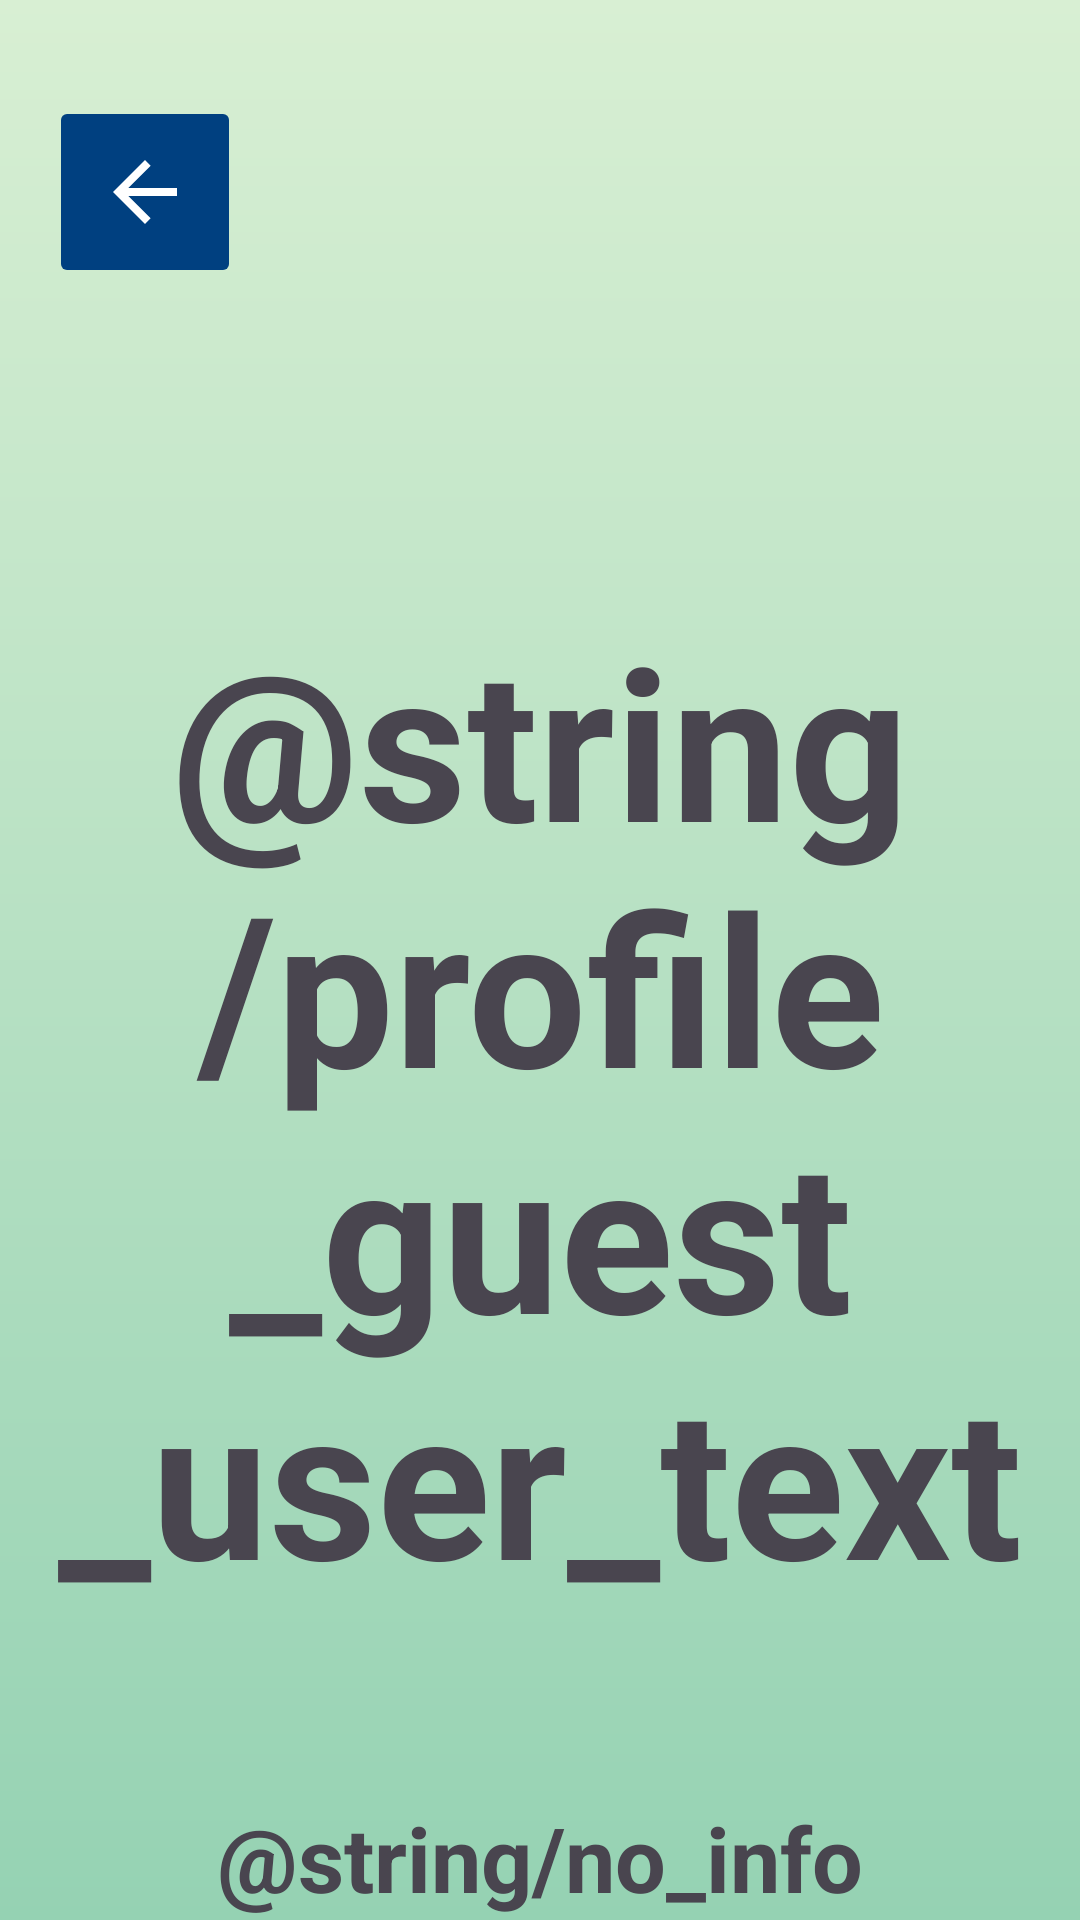

Icon click points for this 1080×1920 phone screenshot, format point (x, y):
arrow back: point (145, 192)
